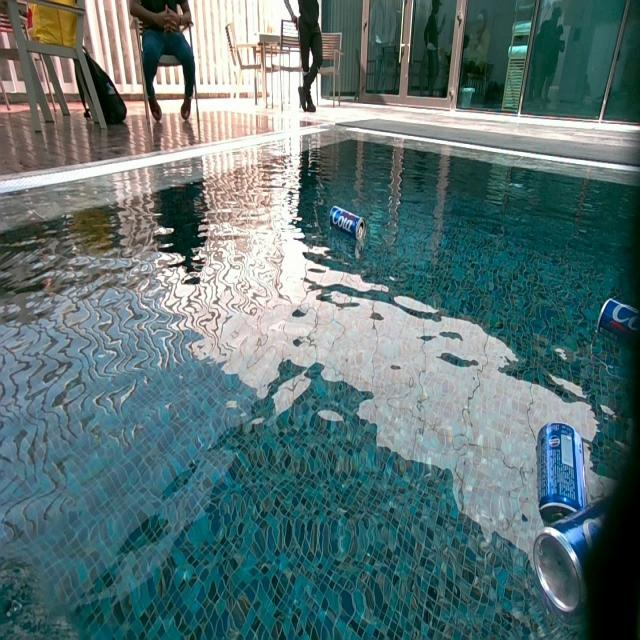Cans: (533, 494, 613, 618), (535, 419, 588, 520), (596, 300, 640, 354), (331, 206, 368, 242)
